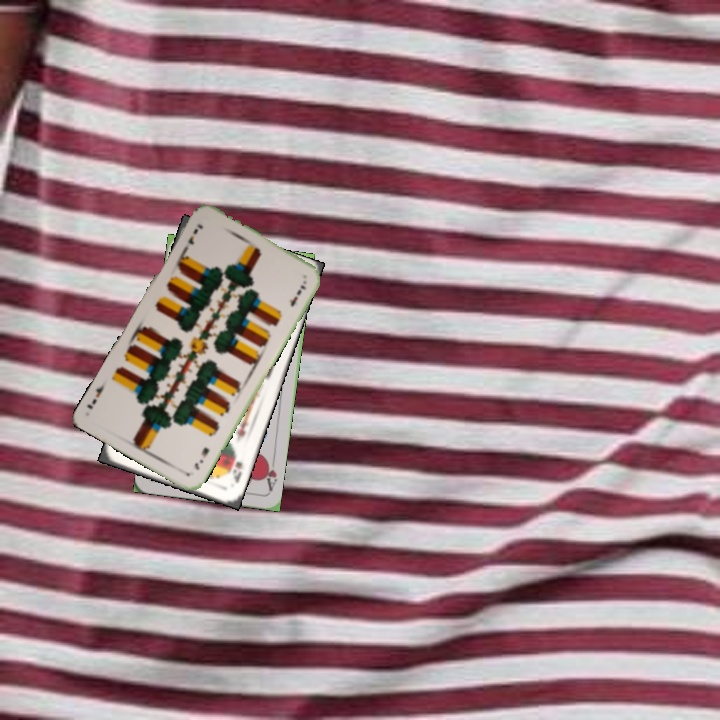E7: (190, 443, 212, 472), (184, 220, 206, 247)
HA: (260, 453, 279, 494)
SK: (228, 457, 245, 485)
